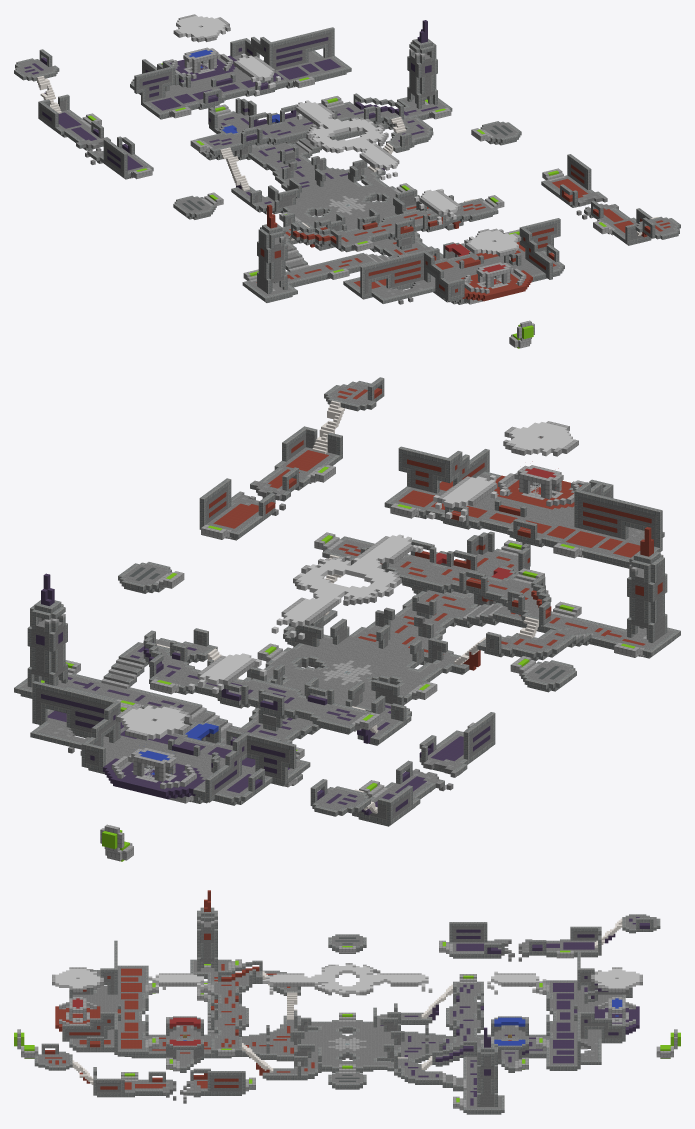
The model's file is minecraft.obj.
3 views of the same model, one above another, from view 1: azimuth 30°, elevation 25°; view 2: azimuth 150°, elevation 25°; view 3: azimuth 270°, elevation 25° (orthographic). The views are drawn at different scales.
Bounding box in the file's own units: 1050 × 310 × 1930.
